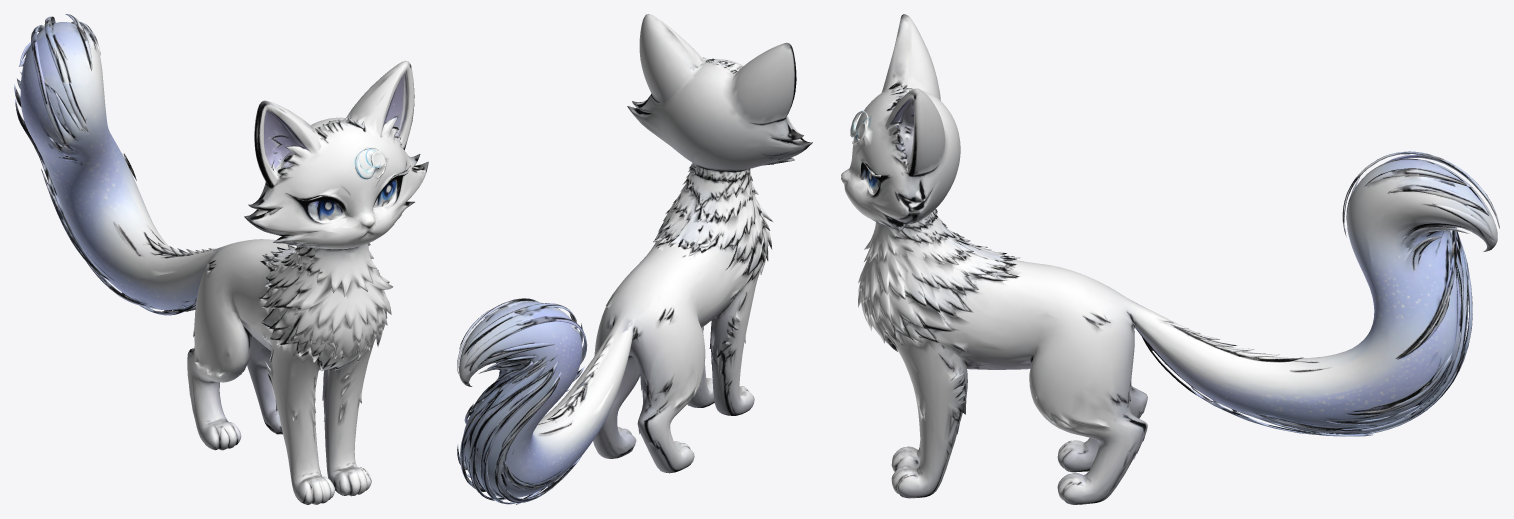
Rendered from yueying.glb.
3 renders of one model, left to right at view 1: azimuth 30°, elevation 25°; view 2: azimuth 150°, elevation 25°; view 3: azimuth 270°, elevation 25°, orthographic. The views are drawn at different scales.
Visible parts, largest first — view 1: node_0; view 2: node_0; view 3: node_0.
Boxes of the visible parts, box(x1,y1,x2,y2) form: node_0: box(14, 14, 428, 504); node_0: box(457, 14, 812, 504); node_0: box(841, 14, 1499, 504).
Size of the model in its own units: 0.3805 by 0.7751 by 1.07.
1 material, 1 textured.
